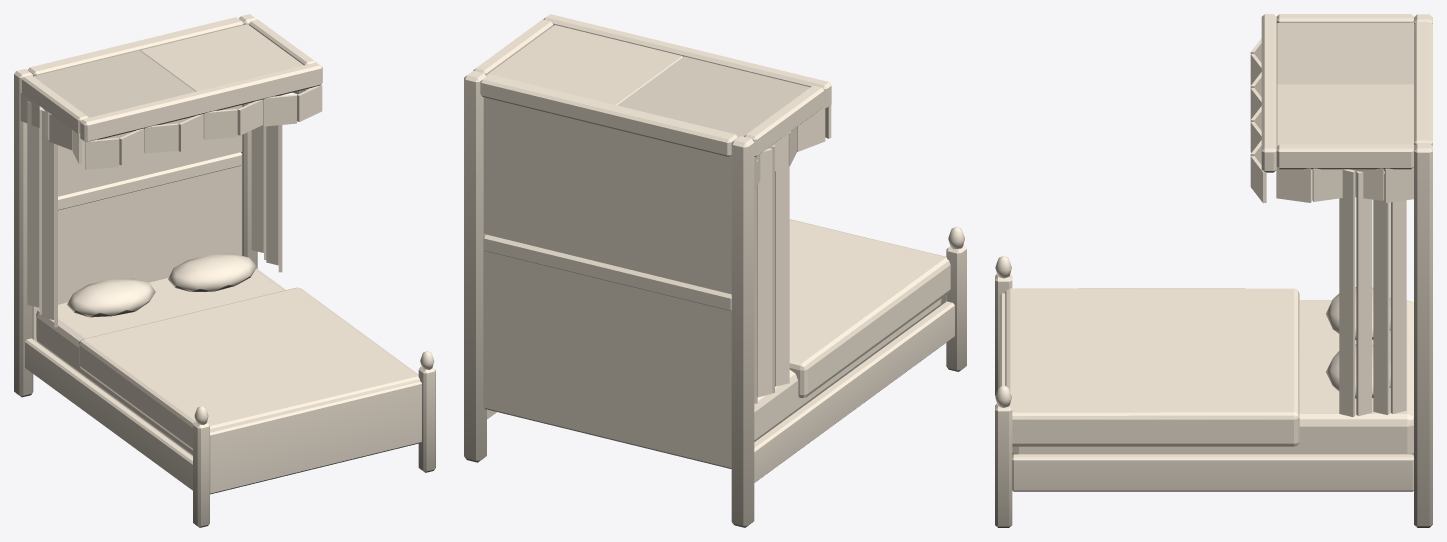
File: SM_VKI_Prop_Bed_HalfTester.fbx
3 renders of one model, left to right at view 1: azimuth 30°, elevation 25°; view 2: azimuth 150°, elevation 25°; view 3: azimuth 270°, elevation 25°, orthographic. The views are drawn at different scales.
Visible parts, largest first — view 1: SM_VKI_Prop_Bed_HalfTester.001; view 2: SM_VKI_Prop_Bed_HalfTester.001; view 3: SM_VKI_Prop_Bed_HalfTester.001.
Boxes of the visible parts, <box> form: SM_VKI_Prop_Bed_HalfTester.001: <box>14,14,435,527</box>; SM_VKI_Prop_Bed_HalfTester.001: <box>464,14,966,527</box>; SM_VKI_Prop_Bed_HalfTester.001: <box>995,14,1432,527</box>.
Size of the model in its own units: 1.7 by 2.2 by 2.3.
